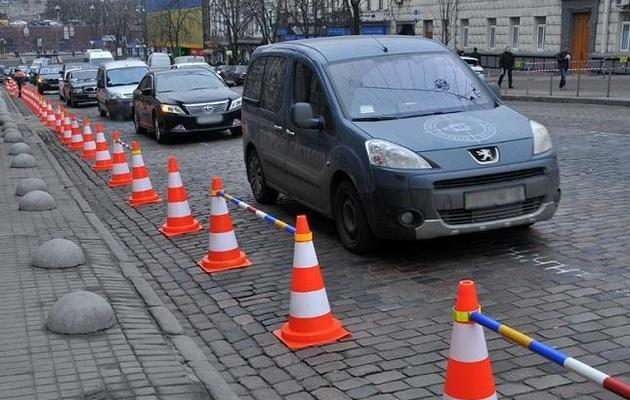car: (229, 32, 572, 247), (130, 67, 240, 139), (97, 60, 153, 116), (62, 66, 103, 106), (36, 64, 64, 95)
person: (552, 43, 573, 93), (496, 46, 518, 90)
